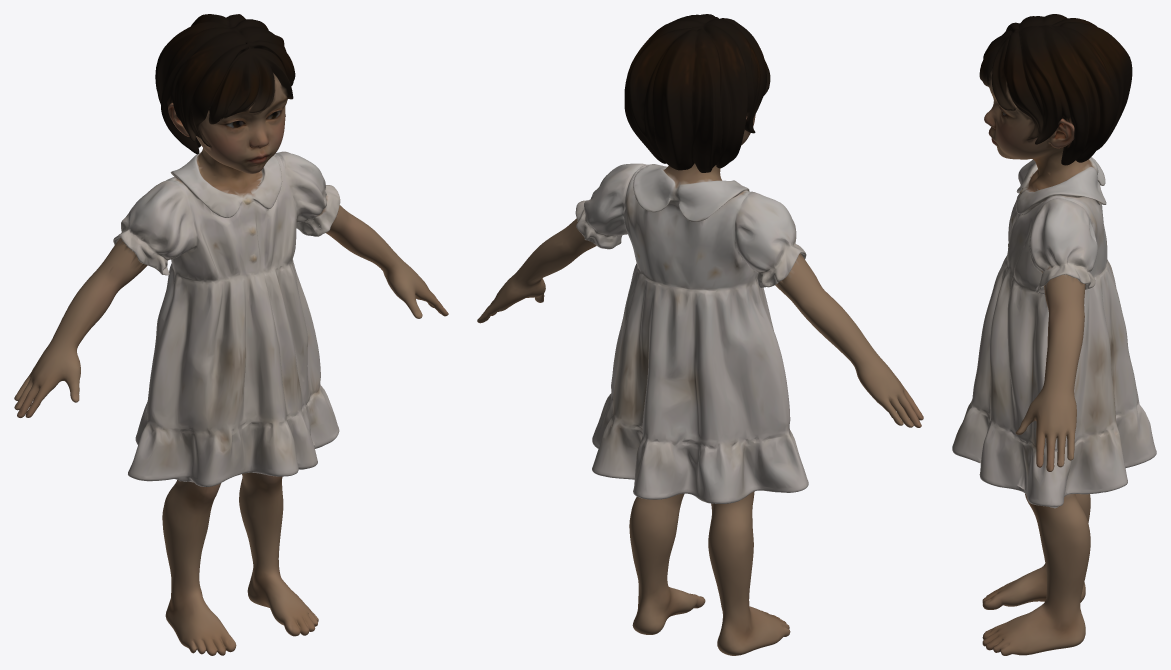
The model's file is guide_character_girl.fbx.
3 views of the same model, side by side, from view 1: azimuth 30°, elevation 25°; view 2: azimuth 150°, elevation 25°; view 3: azimuth 270°, elevation 25° (orthographic). The views are drawn at different scales.
Parts seen in each view (by area): view 1: Merged_tripo_convert_713a5df1-cc0e-423f-9b75-fc7dbf6dfe17_01; view 2: Merged_tripo_convert_713a5df1-cc0e-423f-9b75-fc7dbf6dfe17_01; view 3: Merged_tripo_convert_713a5df1-cc0e-423f-9b75-fc7dbf6dfe17_01.
Boxes of the visible parts, x1,y1,x2,y2 form: Merged_tripo_convert_713a5df1-cc0e-423f-9b75-fc7dbf6dfe17_01: (14,14,448,655); Merged_tripo_convert_713a5df1-cc0e-423f-9b75-fc7dbf6dfe17_01: (477,14,923,655); Merged_tripo_convert_713a5df1-cc0e-423f-9b75-fc7dbf6dfe17_01: (952,14,1156,655).
Bounding box in the file's own units: 0.8276 × 1.1 × 0.3382.
